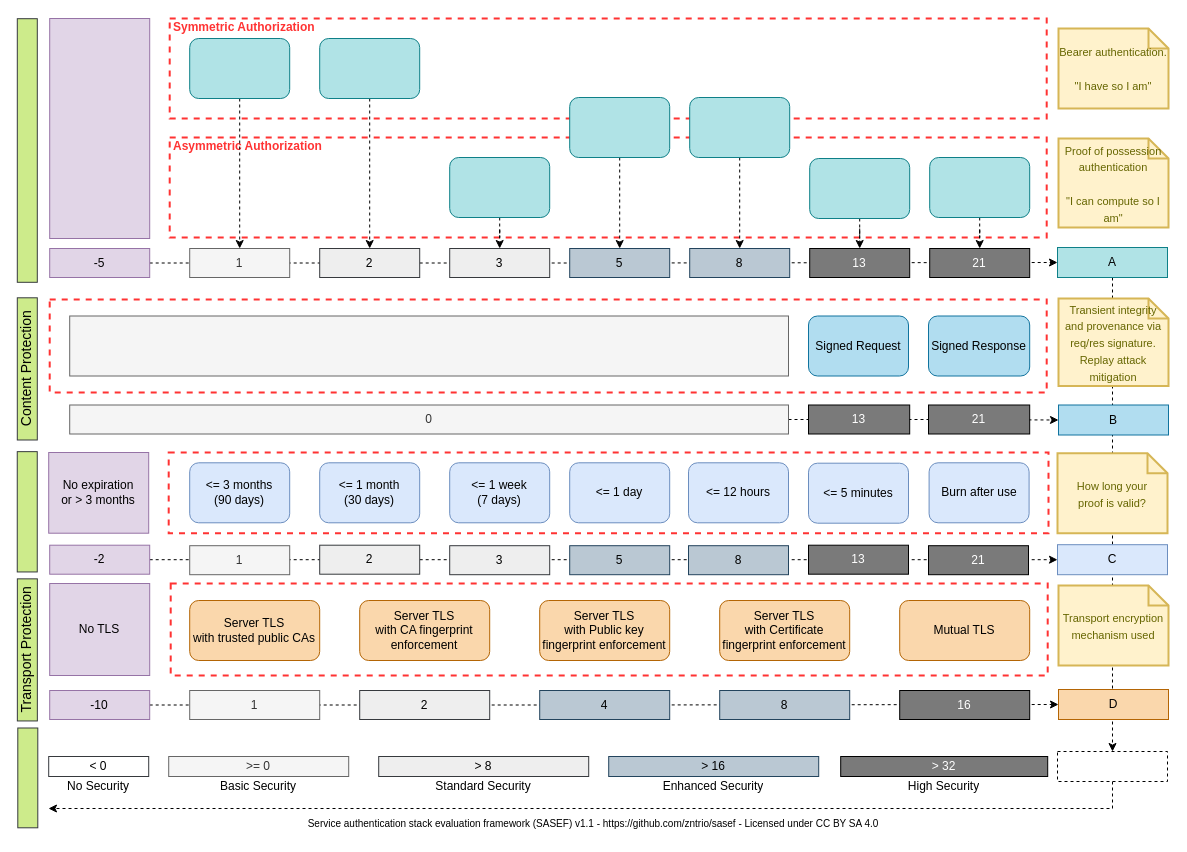
Some shapes in this 1187 by 852 pixel diagram are drawn without their labels. Each missing label, with the centre of its shape:
"A + B + C + D" goes at (x=1112, y=766).
"API Keys" goes at (x=369, y=68).
"Authorization header content" goes at (x=26, y=150).
"Basic Authentication" goes at (x=239, y=68).
"Digest Authentication" goes at (x=499, y=187).
"Evaluation" goes at (x=27, y=777).
"Expiration" goes at (x=26, y=511).
"Managed Assertion (OAUTH / OIDC / SAML)" goes at (x=739, y=127).
"No bearer authorization" goes at (x=99, y=128).
"No transient integrity and provenance control" goes at (x=428, y=345).
"Sender-constrained Token" goes at (x=979, y=187).
"Server verifiable-only Token (Phantom / Opaque)" goes at (x=859, y=188).
"Standalone Assertion (JWT / PASETO)" goes at (x=619, y=127).
